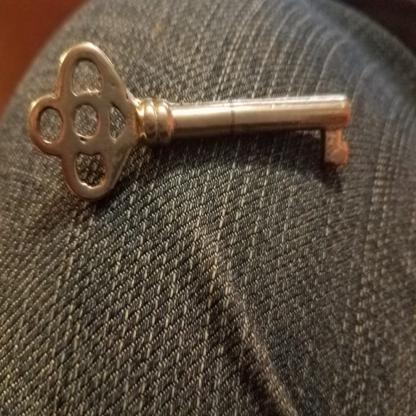key: (27, 44, 348, 202)
